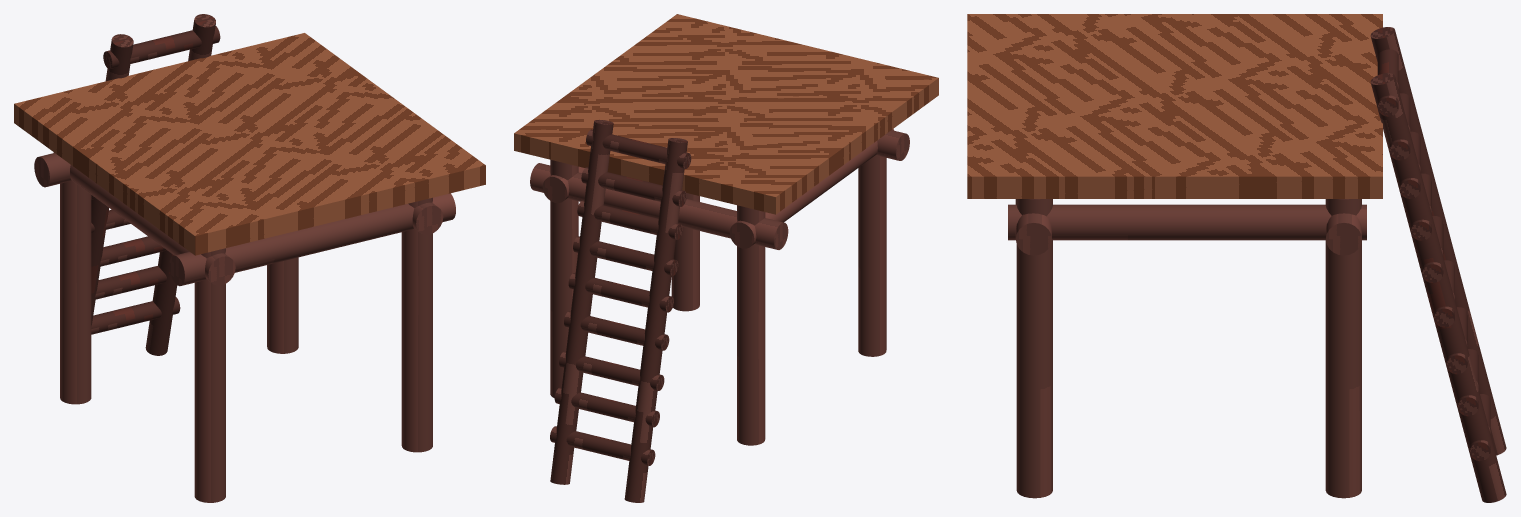
File: OrcCampTower.fbx
3 renders of one model, left to right at view 1: azimuth 30°, elevation 25°; view 2: azimuth 150°, elevation 25°; view 3: azimuth 270°, elevation 25°, orthographic. The views are drawn at different scales.
Parts seen in each view (by area): view 1: OrcCampTop, OrcCampPillar1, OrcCampPillar2, OrcCampPillar3, OrcCampPillar8, OrcCampPillar4, LadderHolderL, OrcCampPillar5, LadderHolderR, Ladderbranch9, Ladderbranch2, Ladderbranch1 (+3 smaller); view 2: OrcCampTop, LadderHolderL, LadderHolderR, OrcCampPillar3, OrcCampPillar2, OrcCampPillar4, OrcCampPillar9, OrcCampPillar1, OrcCampPillar5, Ladderbranch7, Ladderbranch8, Ladderbranch1 (+8 smaller); view 3: OrcCampTop, OrcCampPillar6, OrcCampPillar4, OrcCampPillar1, LadderHolderL, LadderHolderR, OrcCampPillar8, OrcCampPillar9, Ladderbranch9, Ladderbranch8, Ladderbranch3, Ladderbranch5 (+5 smaller).
Boxes of the visible parts, box(x1,y1,x2,y2) form: OrcCampTop: box(14, 33, 485, 255); OrcCampPillar1: box(401, 197, 432, 452); OrcCampPillar2: box(194, 248, 225, 502); OrcCampPillar3: box(60, 180, 91, 404); OrcCampPillar8: box(169, 193, 455, 286); OrcCampPillar4: box(267, 257, 298, 353); LadderHolderL: box(145, 14, 215, 355); OrcCampPillar5: box(53, 152, 235, 285); LadderHolderR: box(91, 34, 133, 325); Ladderbranch9: box(103, 26, 220, 69); Ladderbranch2: box(91, 297, 180, 334); Ladderbranch1: box(95, 266, 166, 299); OrcCampTop: box(514, 14, 938, 214); LadderHolderL: box(550, 119, 613, 484); LadderHolderR: box(624, 138, 687, 502); OrcCampPillar3: box(737, 205, 765, 445); OrcCampPillar2: box(858, 154, 886, 356); OrcCampPillar4: box(550, 159, 578, 398); OrcCampPillar9: box(530, 163, 788, 249); OrcCampPillar1: box(671, 193, 699, 311); OrcCampPillar5: box(729, 129, 893, 248); Ladderbranch7: box(577, 200, 682, 239); Ladderbranch8: box(581, 167, 686, 206); Ladderbranch1: box(554, 387, 659, 427); OrcCampTop: box(967, 14, 1382, 198); OrcCampPillar6: box(1008, 204, 1366, 240); OrcCampPillar4: box(1325, 199, 1361, 498); OrcCampPillar1: box(1016, 199, 1052, 498); LadderHolderL: box(1370, 73, 1506, 502); LadderHolderR: box(1370, 27, 1506, 455); OrcCampPillar8: box(1015, 199, 1051, 255); OrcCampPillar9: box(1326, 213, 1361, 255); Ladderbranch9: box(1377, 49, 1398, 116); Ladderbranch8: box(1389, 93, 1410, 160); Ladderbranch3: box(1446, 307, 1467, 374); Ladderbranch5: box(1422, 216, 1443, 282).
Bounding box in the file's own units: 5048 × 6120 × 7065.
Materials: 3 (3 with a texture image).
